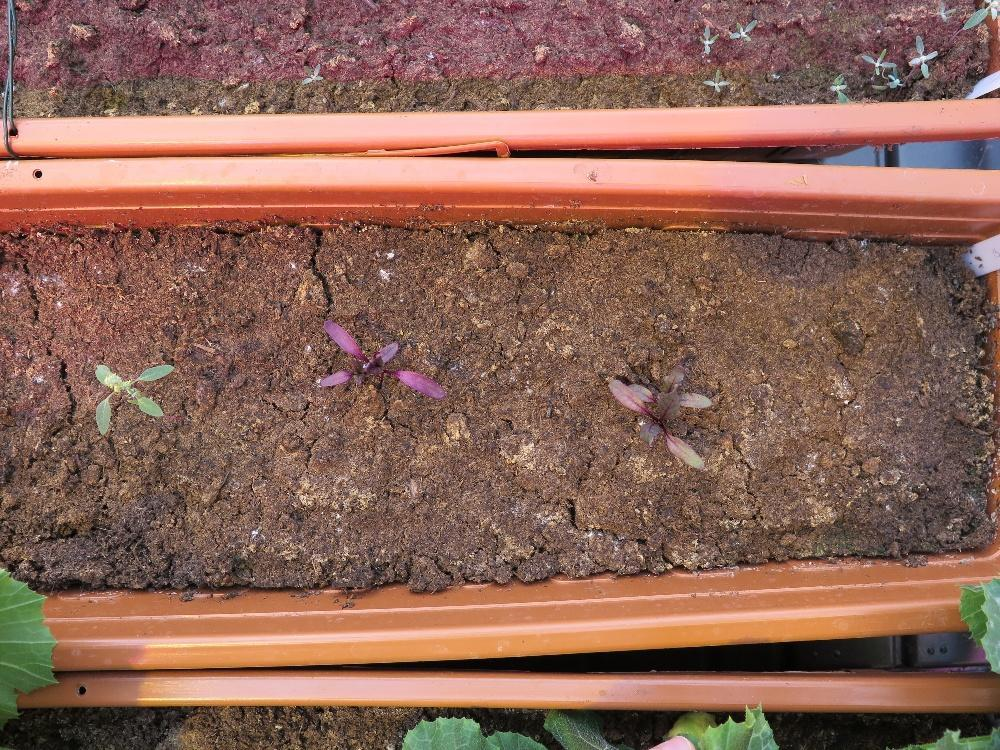weed: (906, 32, 938, 77), (699, 67, 729, 93), (726, 16, 756, 41), (697, 23, 719, 53), (299, 59, 323, 86)
